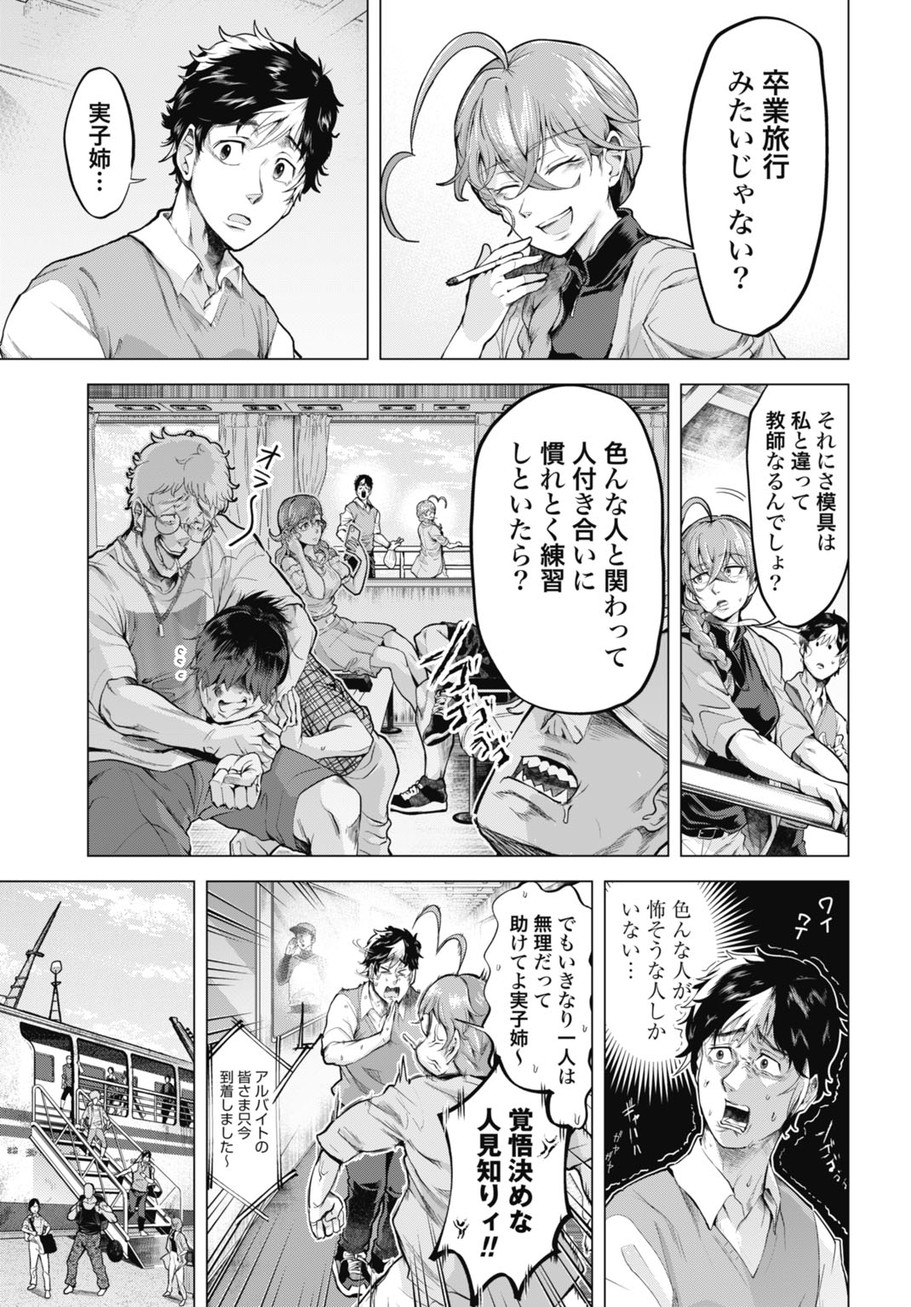bubbles: (464, 383, 668, 715), (674, 14, 839, 340), (429, 1059, 588, 1305), (478, 882, 602, 1141), (732, 385, 849, 637), (601, 884, 720, 1081), (205, 1016, 308, 1224), (62, 65, 149, 220)
